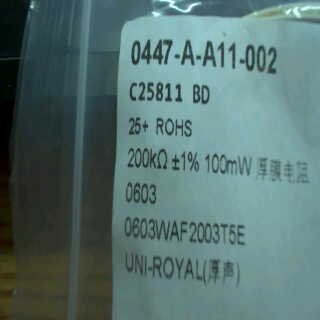200kR: (122, 145, 170, 174)
